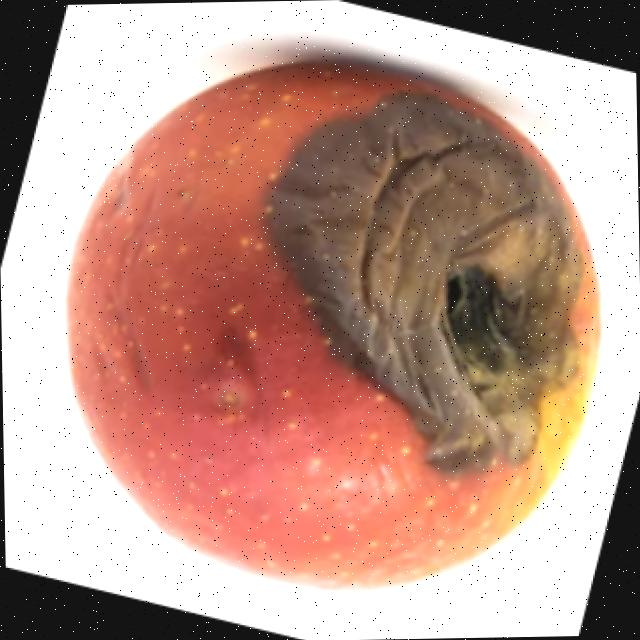Rotten: (56, 51, 607, 598)
